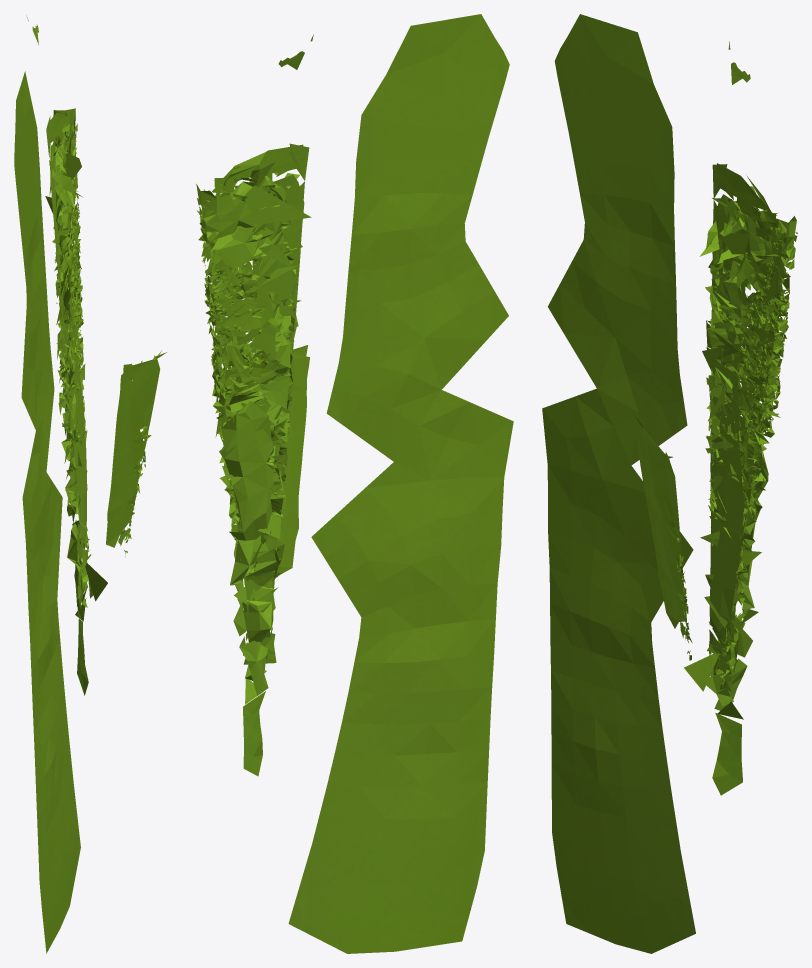
File: grassc.obj
The picture shows the model from 3 angles, left to right: view 1: azimuth 30°, elevation 25°; view 2: azimuth 150°, elevation 25°; view 3: azimuth 270°, elevation 25°; orthographic projection. The views are drawn at different scales.
Parts seen in each view (by area): view 1: tripo_node_18d2d8f1-2a80-4d38-8347-d6f3f2667962; view 2: tripo_node_18d2d8f1-2a80-4d38-8347-d6f3f2667962; view 3: tripo_node_18d2d8f1-2a80-4d38-8347-d6f3f2667962.
Boxes of the visible parts, box(x1,y1,x2,y2) form: tripo_node_18d2d8f1-2a80-4d38-8347-d6f3f2667962: box(14, 15, 166, 953); tripo_node_18d2d8f1-2a80-4d38-8347-d6f3f2667962: box(196, 14, 513, 953); tripo_node_18d2d8f1-2a80-4d38-8347-d6f3f2667962: box(542, 14, 797, 953).
Bounding box in the file's own units: 0.0667 × 0.2661 × 0.0674.
